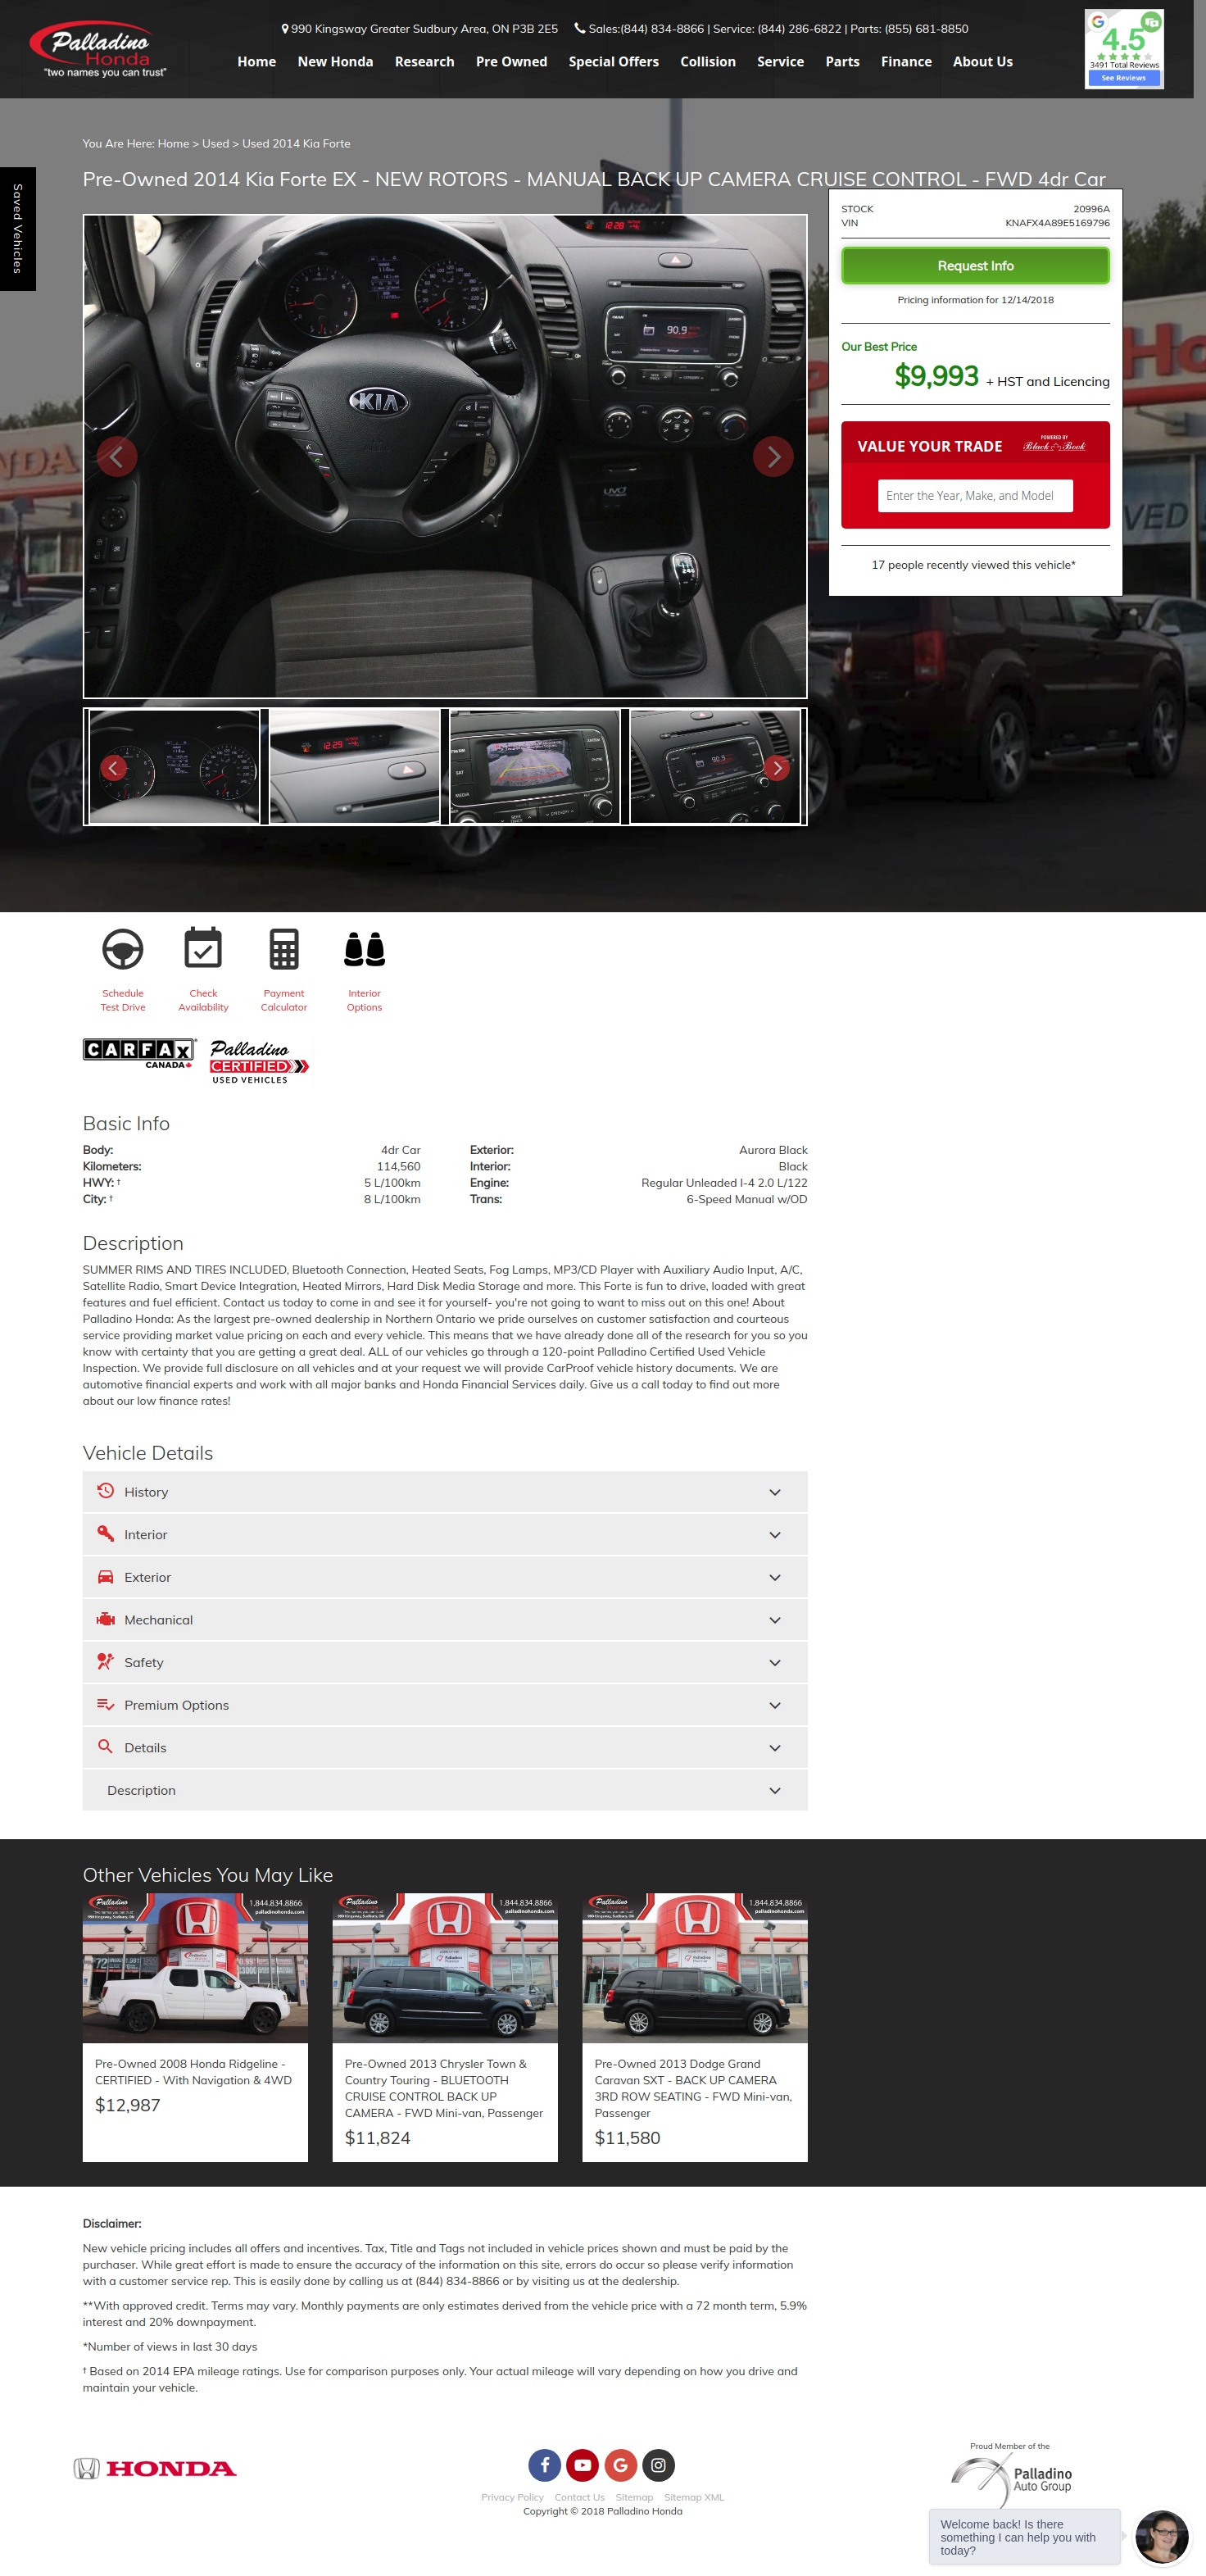car: (774, 761, 784, 775)
